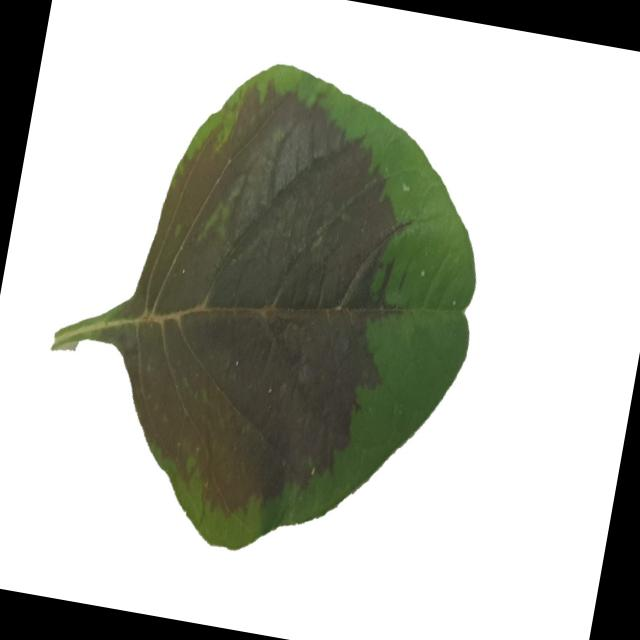Medicinal-Arive Dantu: (21, 25, 514, 583)
